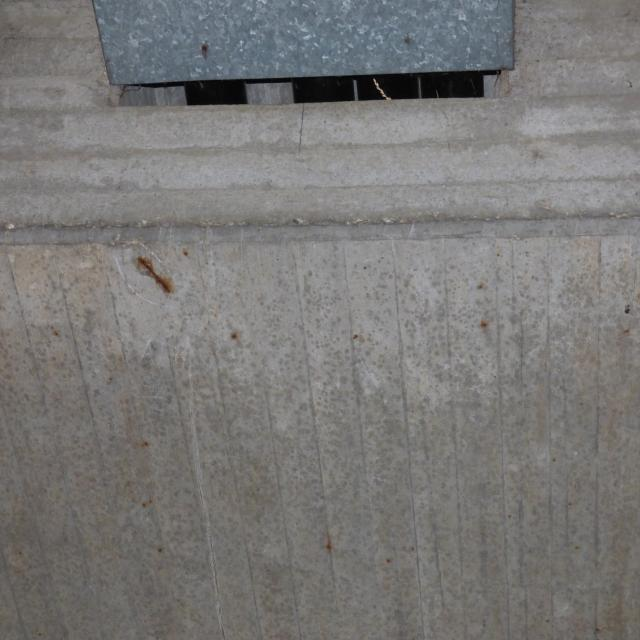corrosion: (131, 247, 188, 306), (202, 306, 244, 362), (468, 273, 494, 335), (141, 497, 156, 518), (199, 44, 211, 61), (325, 536, 336, 554), (140, 437, 150, 451), (155, 544, 165, 556), (351, 331, 359, 344)
